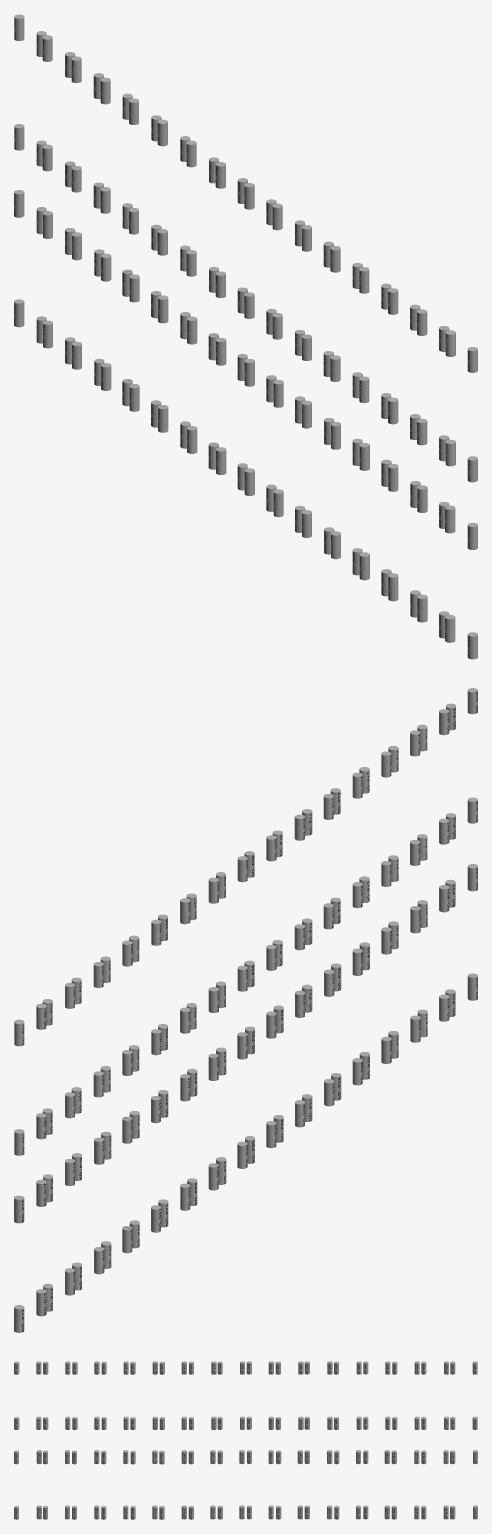
The model's file is number8_PNALL.FBX.
The picture shows the model from 3 angles, top to bottom: view 1: azimuth 30°, elevation 25°; view 2: azimuth 150°, elevation 25°; view 3: azimuth 270°, elevation 25°; orthographic projection. The views are drawn at different scales.
Parts seen in each view (by area): view 1: Object5312, Object5314, Object5315, Object5313; view 2: Object5315, Object5313, Object5312, Object5314; view 3: Object5314, Object5312, Object5313, Object5315.
Boxes of the visible parts, <box> form: Object5312: <box>14,14,455,533</box>; Object5314: <box>14,124,455,642</box>; Object5315: <box>36,140,477,659</box>; Object5313: <box>36,31,477,549</box>; Object5315: <box>36,797,477,1316</box>; Object5313: <box>36,688,477,1206</box>; Object5312: <box>14,703,455,1223</box>; Object5314: <box>14,813,455,1332</box>; Object5314: <box>36,1416,477,1519</box>; Object5312: <box>36,1361,477,1463</box>; Object5313: <box>14,1361,455,1464</box>; Object5315: <box>14,1416,455,1519</box>.
Size of the model in its own units: 0.6858 by 22.33 by 60.09.
